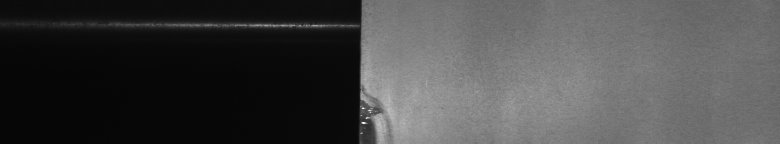hb: (368, 88, 396, 136)
